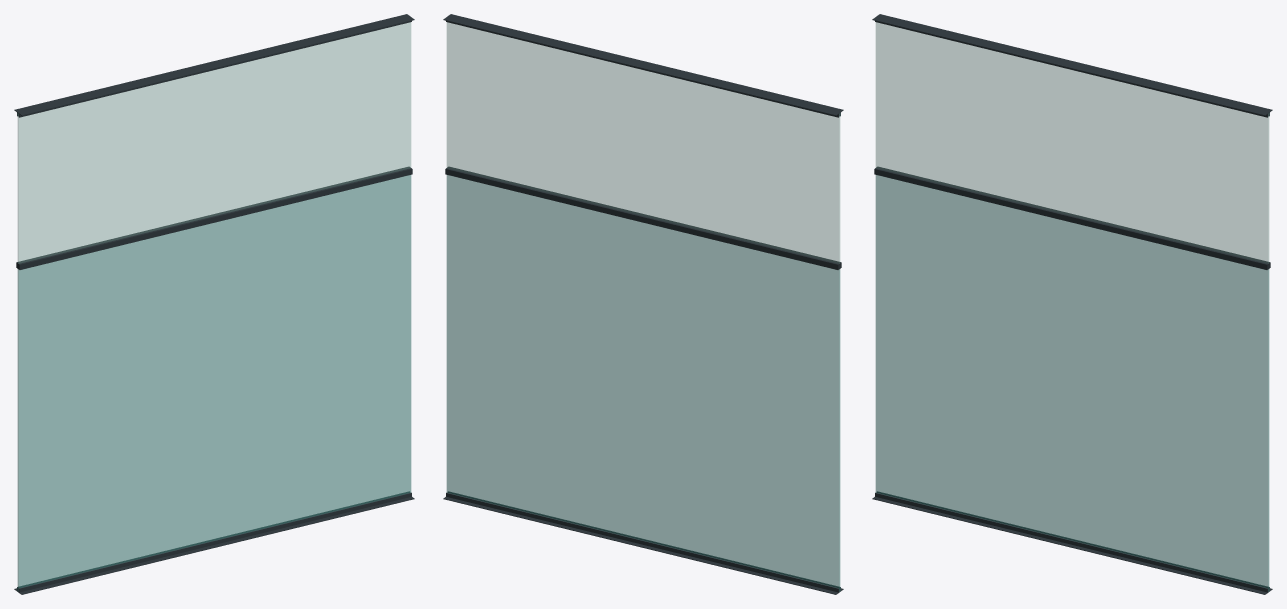
3 renders of one model, left to right at view 1: azimuth 30°, elevation 25°; view 2: azimuth 150°, elevation 25°; view 3: azimuth 330°, elevation 25°, orthographic.
Parts seen in each view (by area): view 1: pane-c1-r1, pane-c1-r2, transom-c1-r1, head-web, base-lip-1, base-web, base-seal--1, head-lip-1; view 2: pane-c1-r1, pane-c1-r2, transom-c1-r1, head-web, base-lip--1, base-web, base-seal-1, head-lip--1; view 3: pane-c1-r1, pane-c1-r2, transom-c1-r1, head-web, base-lip-1, base-web, base-seal--1, head-lip-1.
Part boxes in pixels (x1,y1,x2,y2): pane-c1-r1: (17,175,411,591); pane-c1-r2: (18,22,410,263); transom-c1-r1: (16,166,412,269); head-web: (14,14,414,115); base-lip-1: (19,493,411,592); base-web: (14,497,414,594); base-seal--1: (17,491,410,591); head-lip-1: (19,20,411,117); pane-c1-r1: (446,175,840,591); pane-c1-r2: (447,22,839,263); transom-c1-r1: (445,166,841,269); head-web: (443,14,843,115); base-lip--1: (446,493,838,592); base-web: (443,497,843,594); base-seal-1: (447,491,840,591); head-lip--1: (446,20,838,117); pane-c1-r1: (875,175,1269,591); pane-c1-r2: (876,22,1268,263); transom-c1-r1: (874,166,1270,269); head-web: (872,14,1272,115); base-lip-1: (875,493,1267,592); base-web: (872,497,1272,594); base-seal--1: (876,491,1269,591); head-lip-1: (875,20,1267,117).
Bounding box in the file's own units: 2.4 × 2.8 × 0.08.
